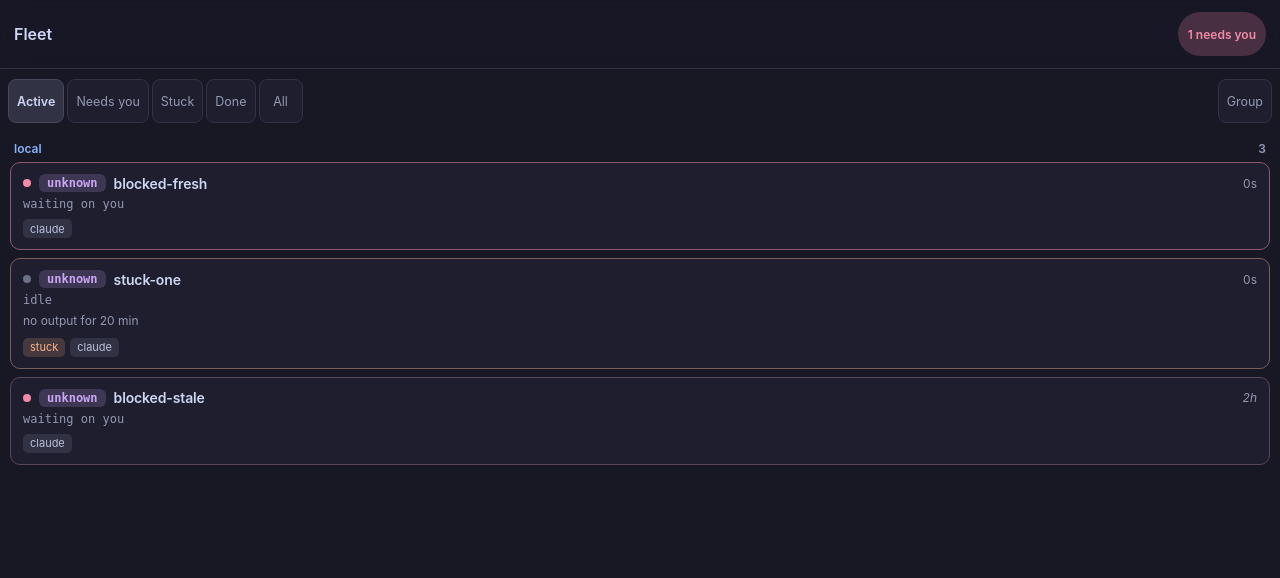
Test case: FleetView attention filters › keeps a fresh ended run out of Active and in All
Click the button "All".
click(280, 101)  # box x1=258 y1=79 x2=302 y2=123
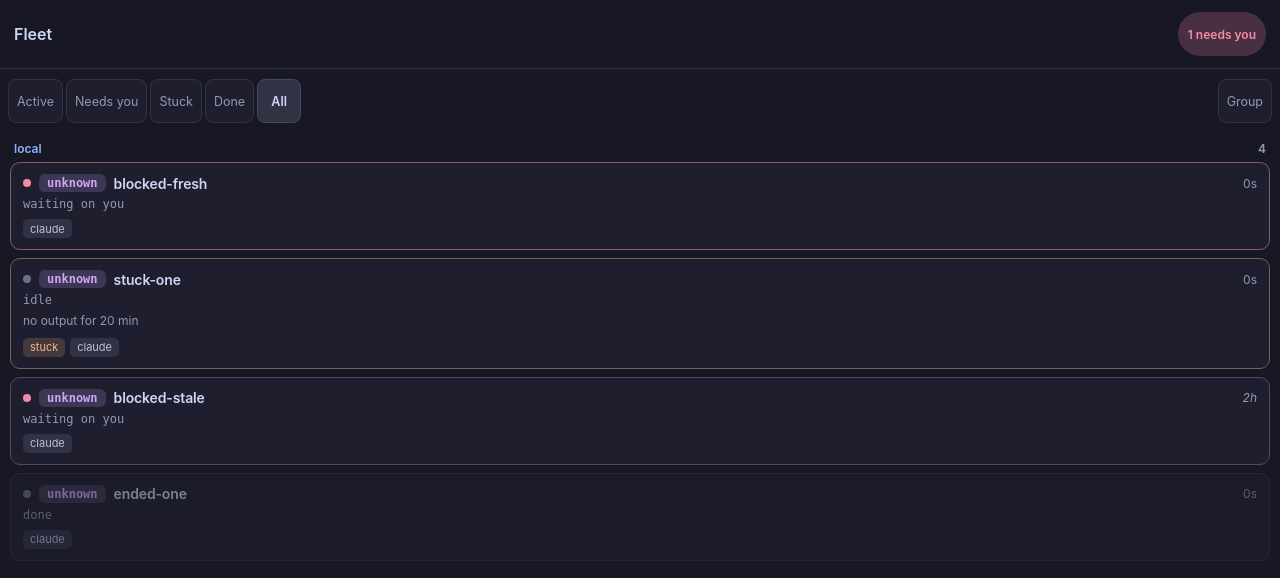
Now the text "ended-one" is shown, box x1=114 y1=485 x2=187 y2=502
